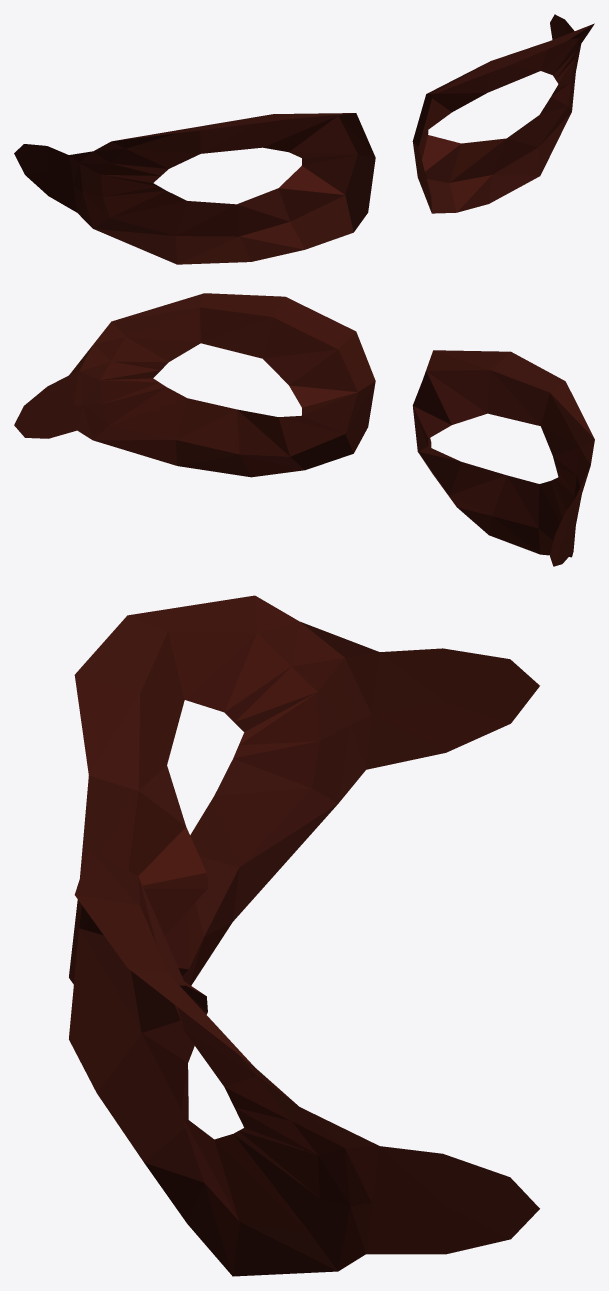
The model's file is miscEyelinerHue.glb.
3 renders of one model, top to bottom at view 1: azimuth 30°, elevation 25°; view 2: azimuth 150°, elevation 25°; view 3: azimuth 270°, elevation 25°, orthographic. The views are drawn at different scales.
Visible parts, largest first — view 1: miscEyelinerHue; view 2: miscEyelinerHue; view 3: miscEyelinerHue.
Part boxes in pixels (x1,y1,x2,y2): miscEyelinerHue: (14,14,594,264); miscEyelinerHue: (14,293,594,566); miscEyelinerHue: (69,595,539,1276).
Size of the model in its own units: 0.1991 by 0.0574 by 0.0758.
